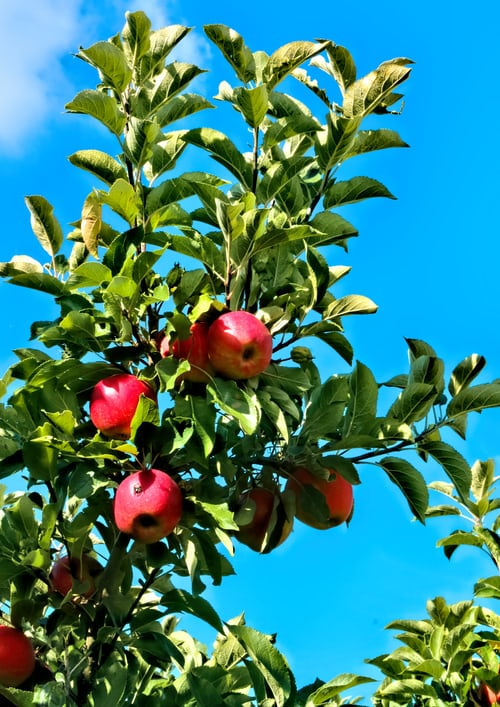apple: (112, 466, 185, 541), (285, 456, 354, 531), (89, 371, 157, 440), (208, 309, 273, 381)
